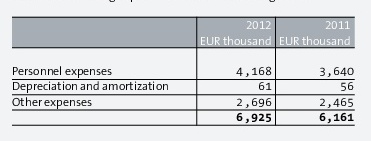table: (0, 0, 371, 141)
